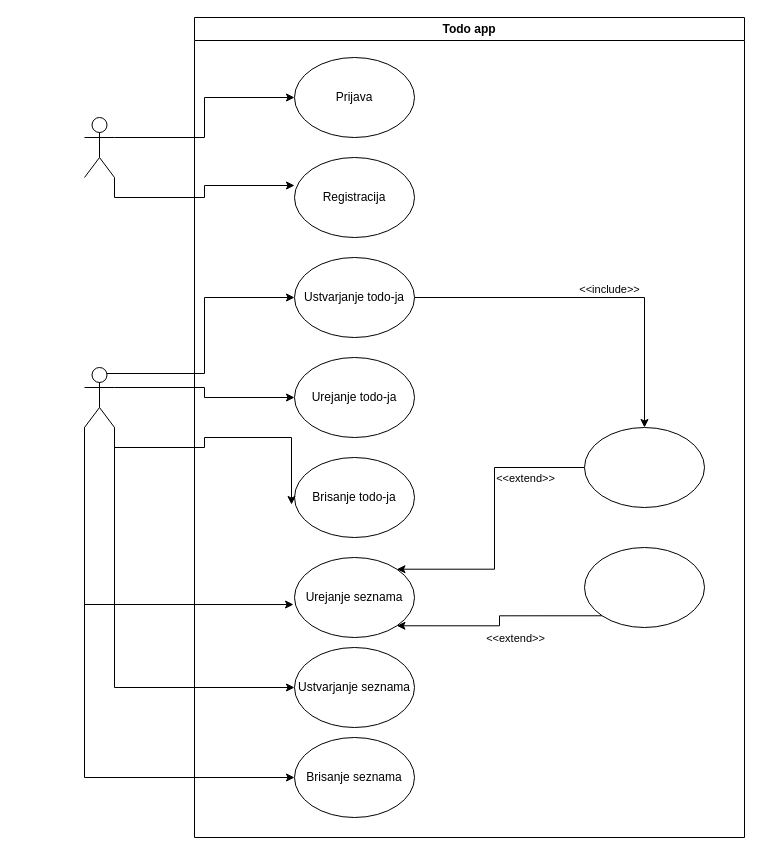
The diagram is 762 pixels wide and 855 high, and some of its shapes have lost their labels. The shapes that lost their labels are listed below. From the top down, each one's centre as x and y in pixels, then its label:
At (x=99, y=147): "Neregistriran uporabnik (guest)".
At (x=99, y=397): "Registriran uporabnik".
At (x=644, y=467): "Dodajanje todo-ja na seznam".
At (x=644, y=587): "Brisanje todo-ja iz seznama".
